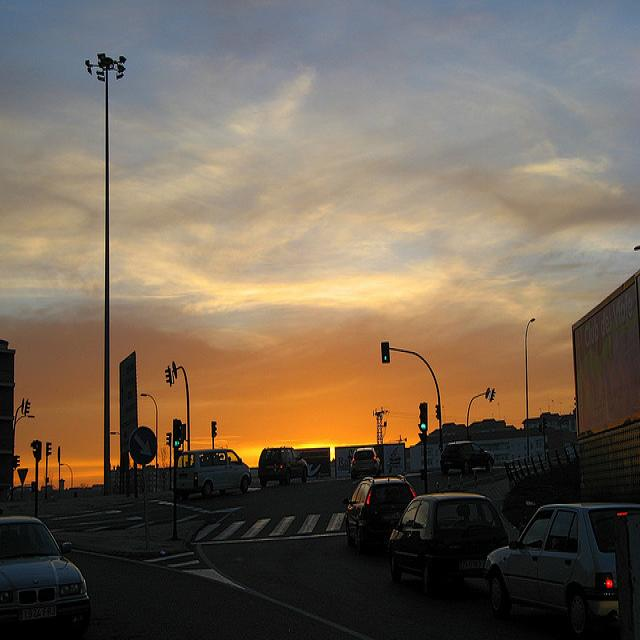Vehicle: (484, 502, 632, 626), (376, 491, 506, 602), (0, 517, 91, 631), (343, 474, 415, 550), (174, 441, 255, 498), (259, 448, 310, 488), (440, 441, 495, 474), (349, 446, 382, 483)
